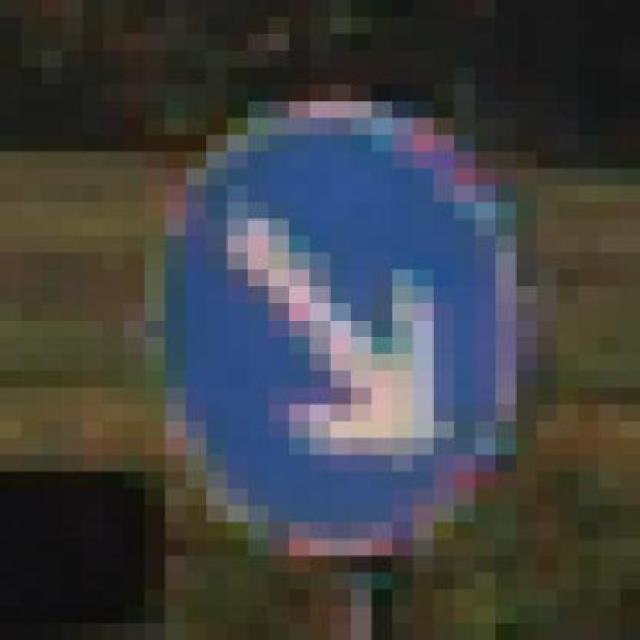Keep-Right: (103, 50, 557, 573)
